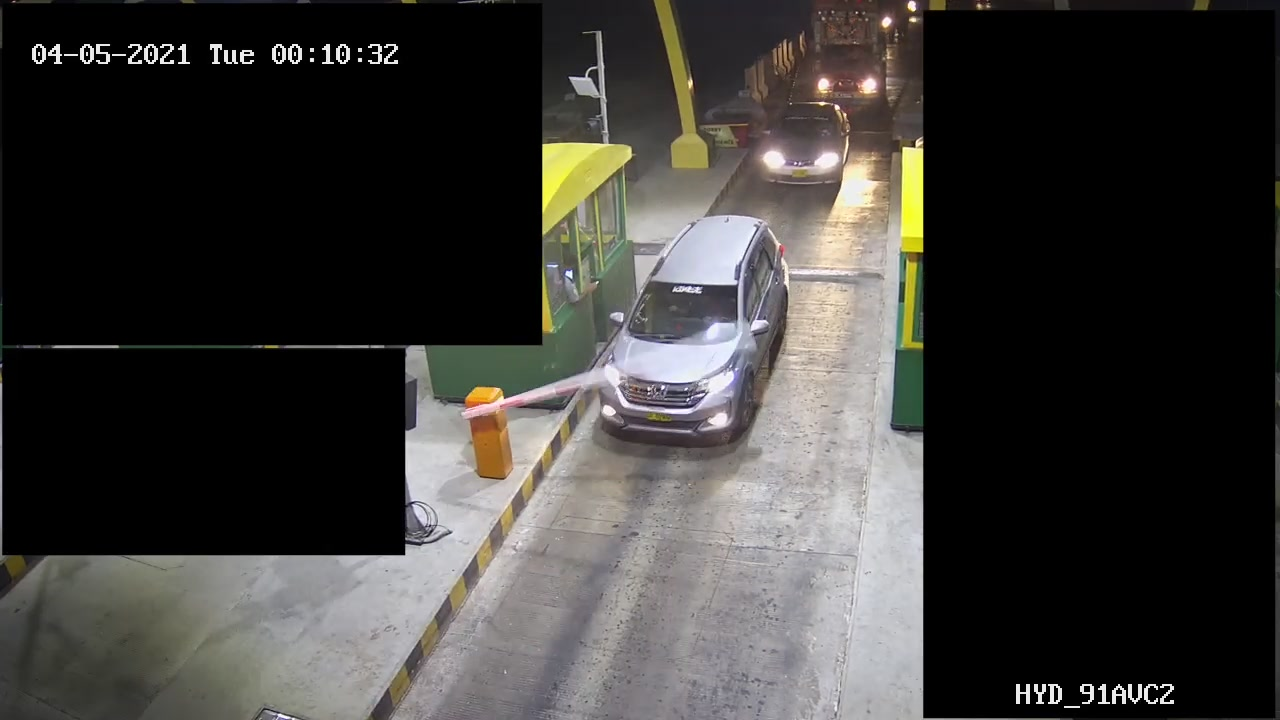F1: (588, 209, 801, 451)
